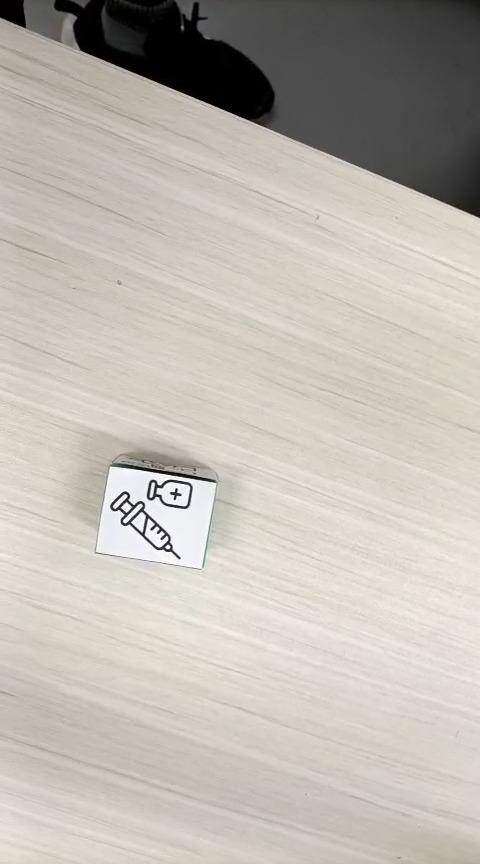antiseptic cream: (93, 450, 219, 570)
